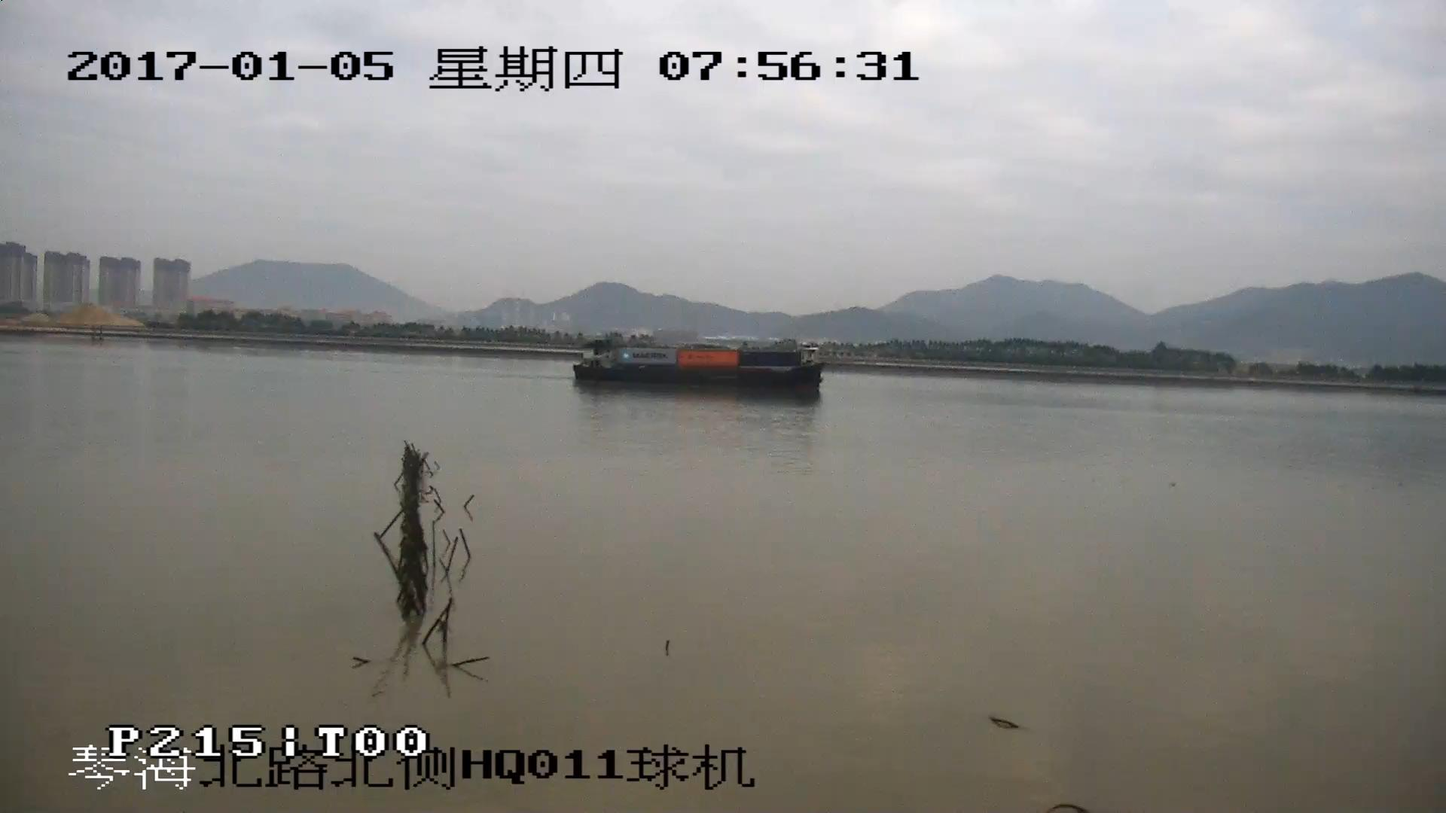container ship: (571, 343, 821, 393)
